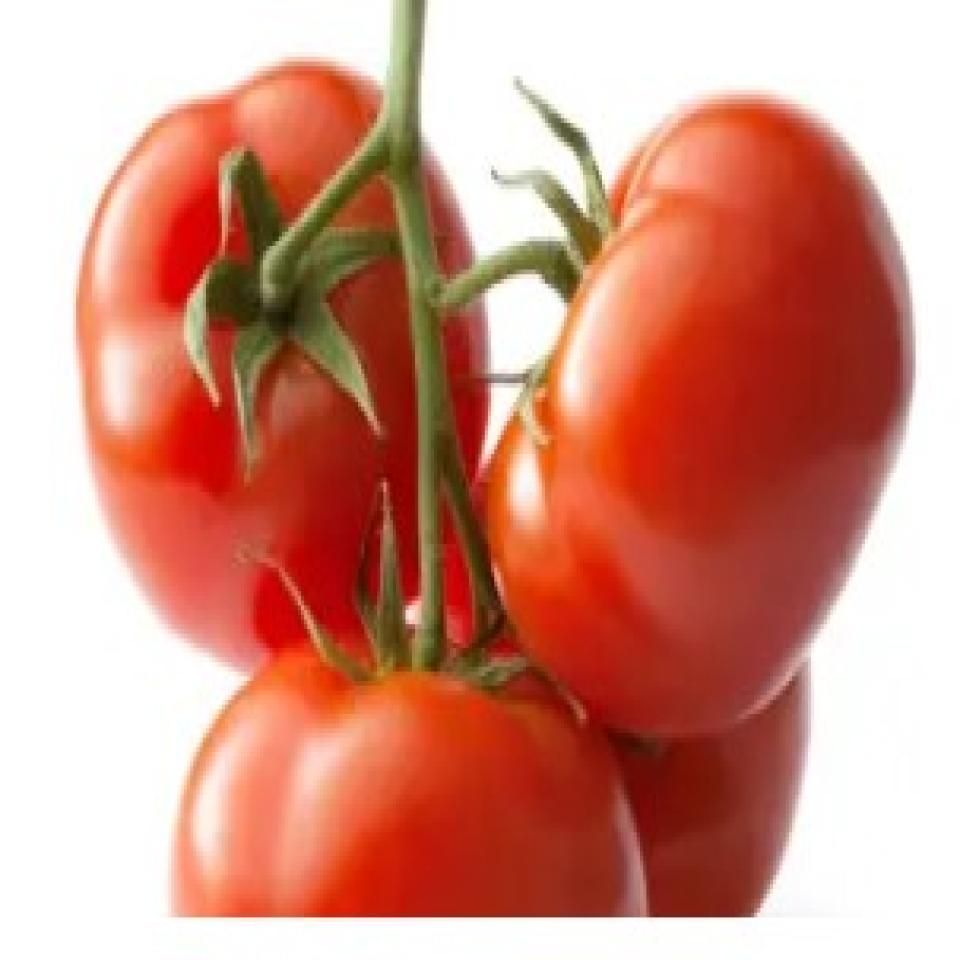Healthy: (515, 101, 908, 710), (83, 89, 481, 636), (190, 649, 637, 960)
